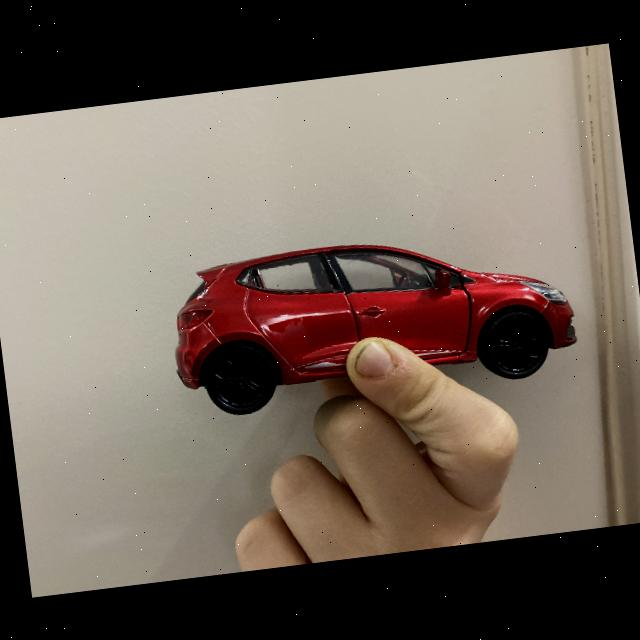Dogru_Jant: (208, 348, 270, 410), (489, 316, 546, 372)
